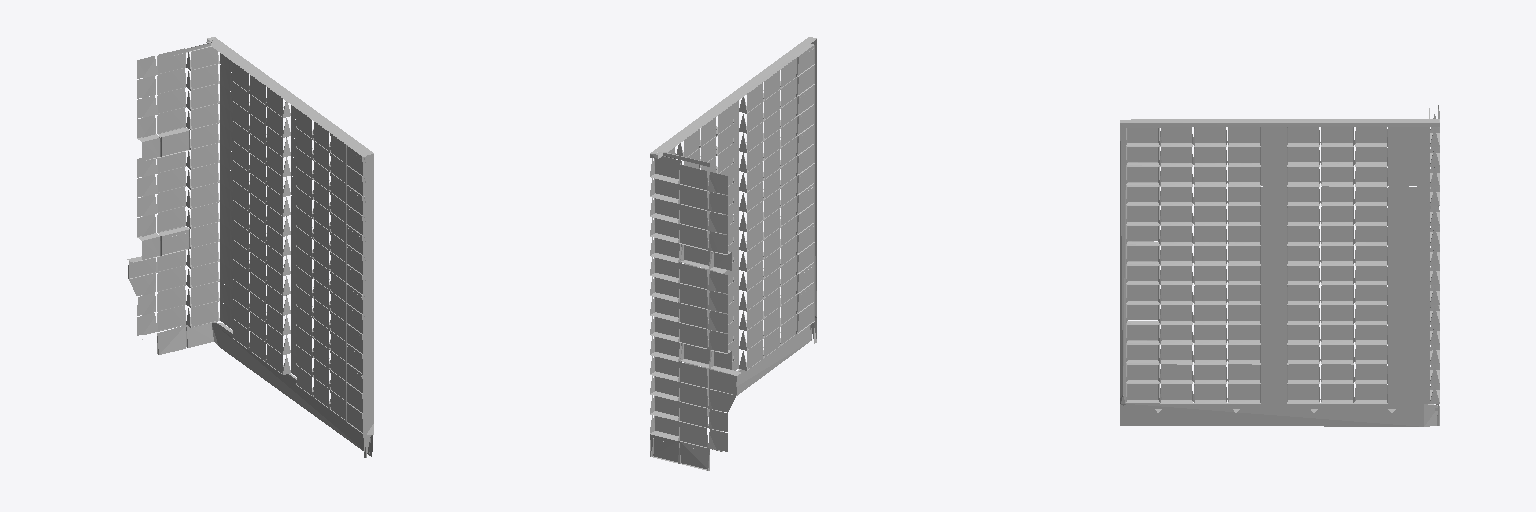
The model's file is buildingadd.obj.
The picture shows the model from 3 angles: view 1: azimuth 30°, elevation 25°; view 2: azimuth 150°, elevation 25°; view 3: azimuth 270°, elevation 25°; orthographic projection.
Parts seen in each view (by area): view 1: building_Cube.006; view 2: building_Cube.006; view 3: building_Cube.006.
Part boxes in pixels (bbox=[...]): building_Cube.006: bbox=[127, 37, 373, 457]; building_Cube.006: bbox=[650, 37, 816, 470]; building_Cube.006: bbox=[1120, 105, 1439, 426].
Size of the model in its own units: 0.2919 by 0.8397 by 0.8009.